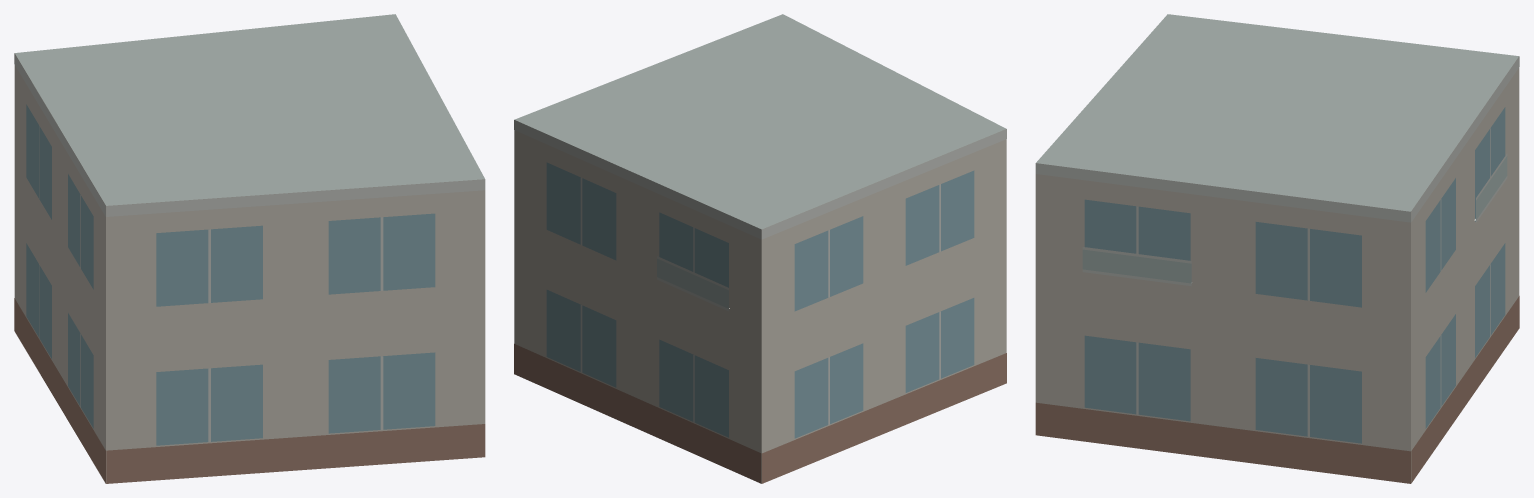
Rendered from survey-upis-32658832.glb.
3 renders of one model, left to right at view 1: azimuth 30°, elevation 25°; view 2: azimuth 150°, elevation 25°; view 3: azimuth 270°, elevation 25°, orthographic. The views are drawn at different scales.
Visible parts, largest first — view 1: survey-upis-32658832.tmp; view 2: survey-upis-32658832.tmp; view 3: survey-upis-32658832.tmp.
Part boxes in pixels (bbox=[...]): survey-upis-32658832.tmp: bbox=[14, 14, 485, 483]; survey-upis-32658832.tmp: bbox=[514, 14, 1006, 483]; survey-upis-32658832.tmp: bbox=[1035, 14, 1519, 483].
Size of the model in its own units: 9.52 by 6.1 by 9.84.
